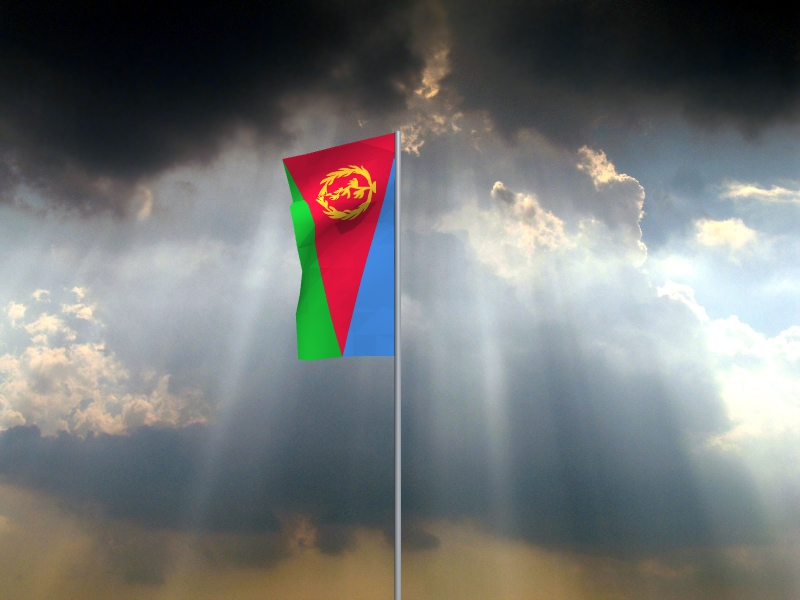er: (282, 134, 394, 362)
